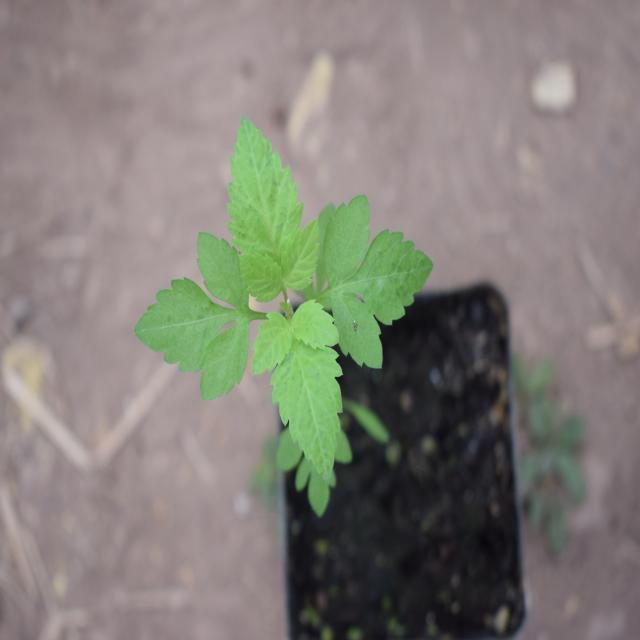Bidens pilosa: (125, 107, 422, 482)
